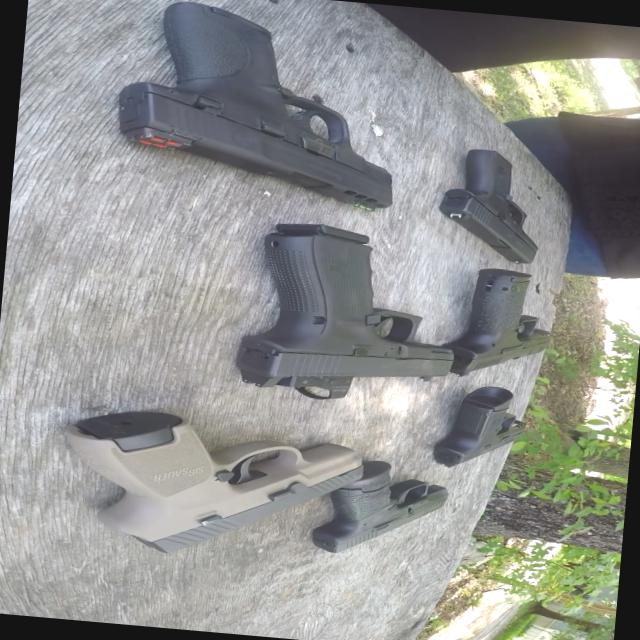handgun: (95, 0, 421, 222), (54, 399, 378, 566), (210, 213, 455, 410), (414, 258, 582, 393), (304, 449, 472, 567), (422, 147, 554, 273), (428, 370, 556, 480)
